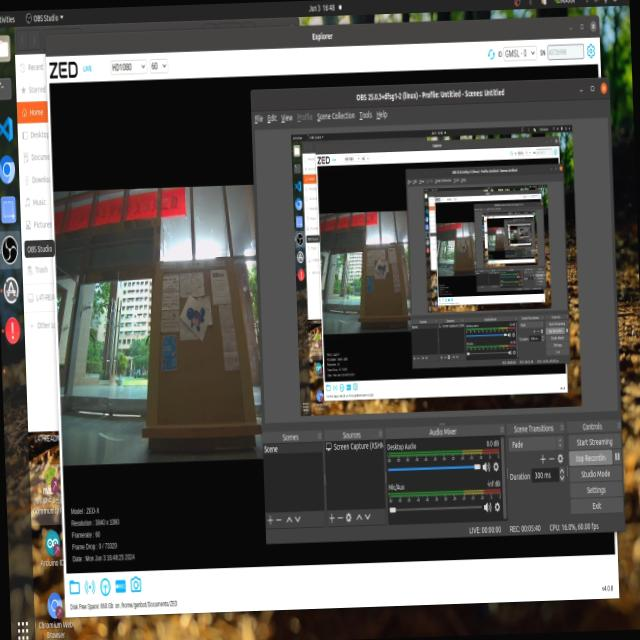blue: (176, 305, 209, 344), (374, 256, 387, 279)
